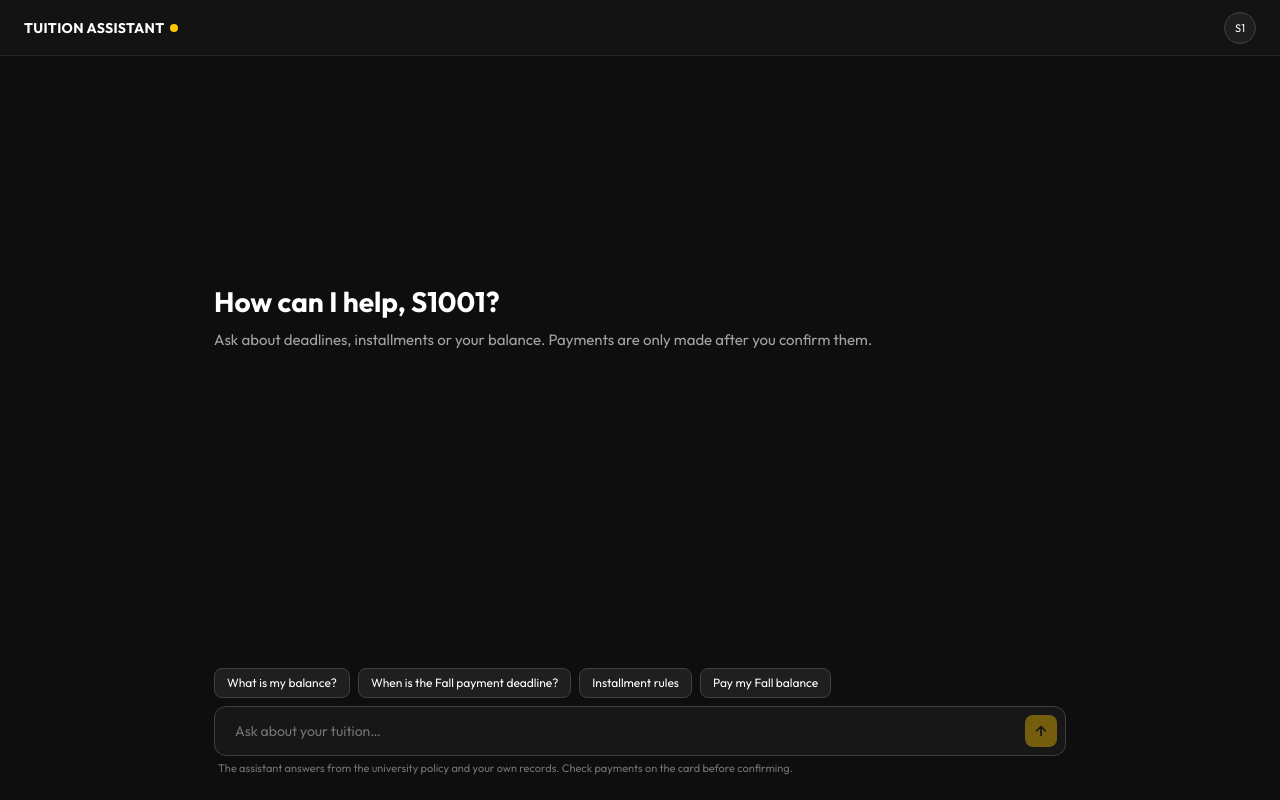
Test: chat screen › marks an expired card when the agent answers 410
Type "pay 500" into the text box named "Message" at (624, 731), box [235,715,1013,747]
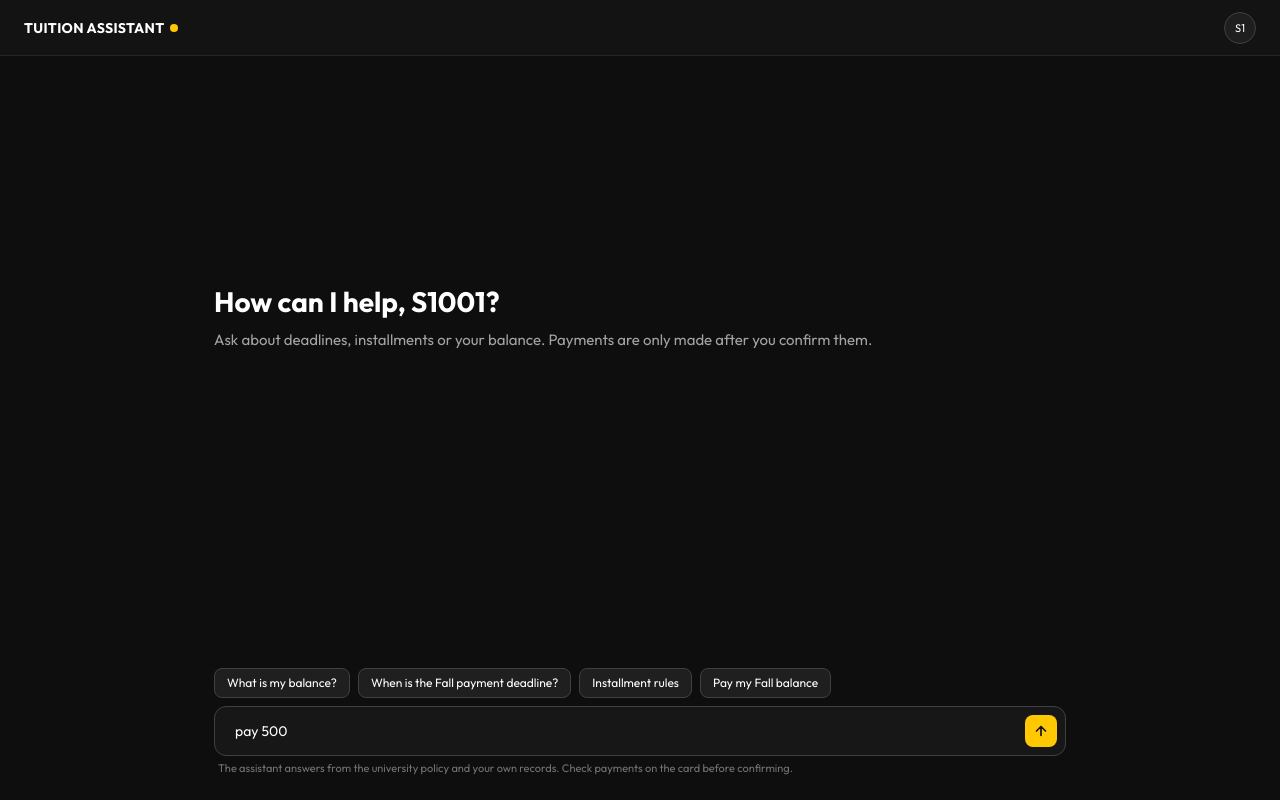
Press Enter in the text box named "Message", box [235,715,1013,747]
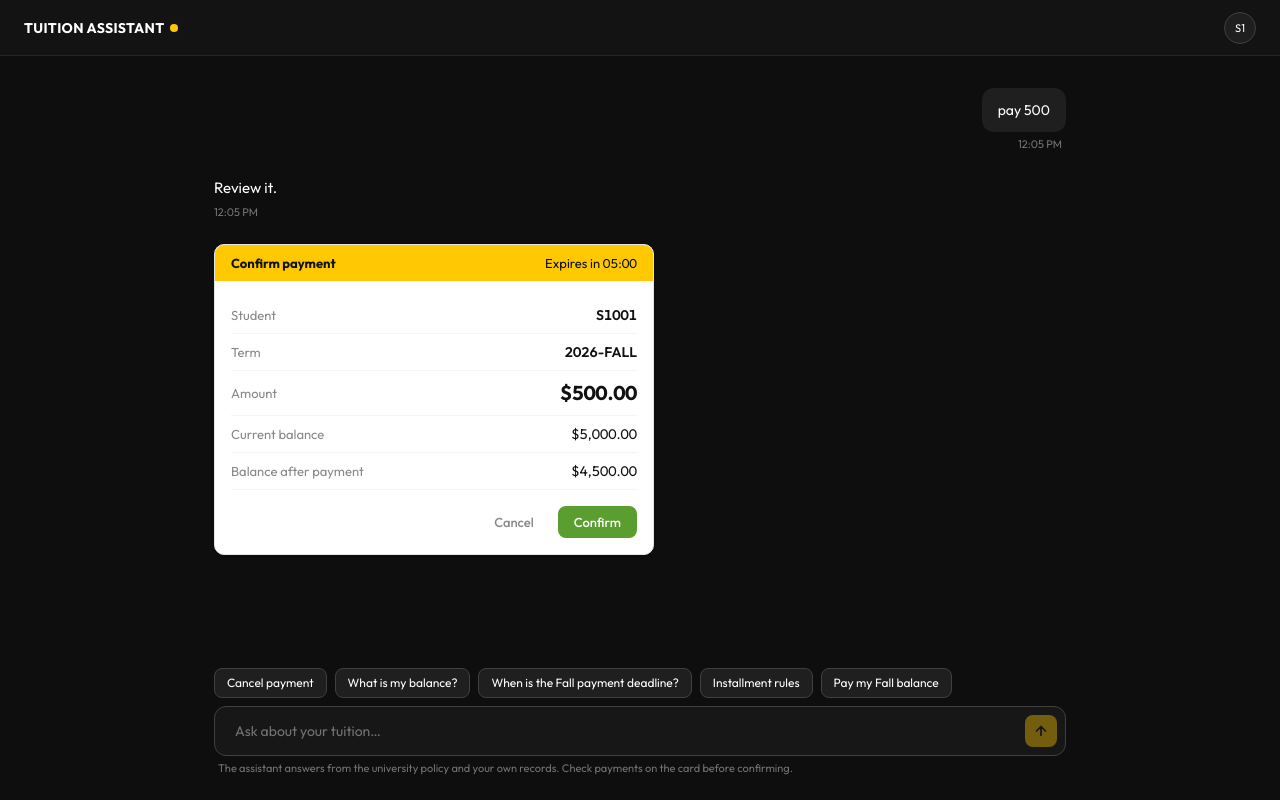
Click the button "Confirm" at (597, 522), box [558,506,637,538]
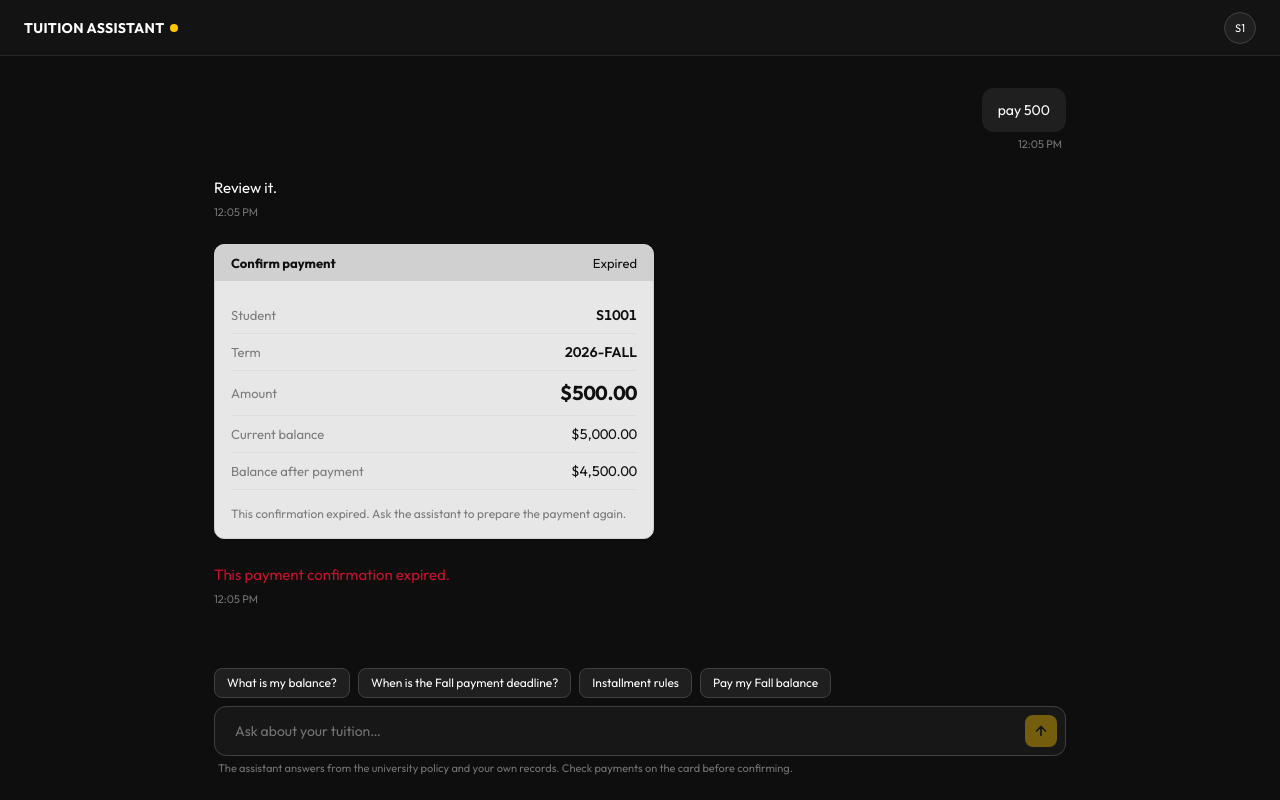
Check: the text "Expired" is shown, box [593,253,637,273]
